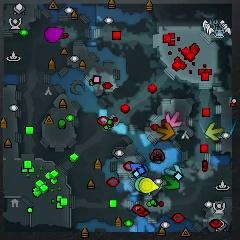p1: (130, 163, 149, 180)
p2: (134, 175, 144, 191)
p3: (45, 26, 64, 44)
p4: (138, 178, 159, 193)
x1: (164, 111, 181, 128)
x2: (204, 122, 224, 141)
x3: (164, 163, 184, 178)
x4: (162, 175, 181, 191)
x5: (155, 123, 176, 141)
